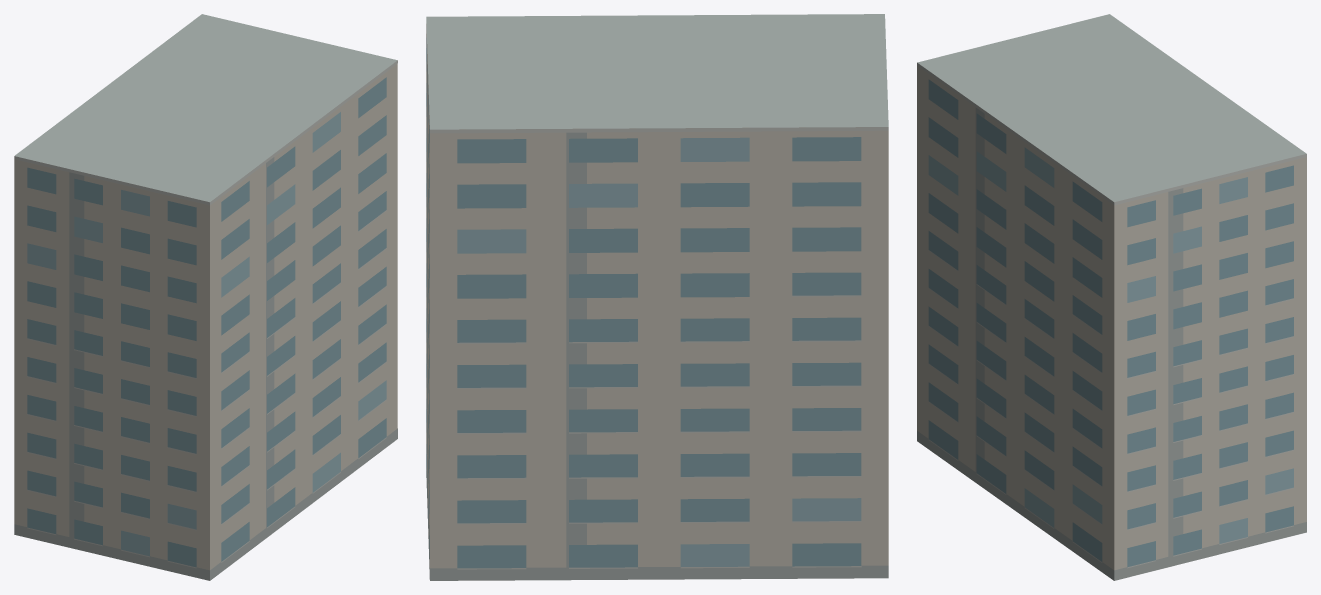
File: residential-6d28dd26-ef51-43fd-8eda-d2173b8d4872.glb
The picture shows the model from 3 angles, left to right: view 1: azimuth 30°, elevation 25°; view 2: azimuth 150°, elevation 25°; view 3: azimuth 270°, elevation 25°; orthographic projection. The views are drawn at different scales.
Parts seen in each view (by area): view 1: residential-6d28dd26-ef51-43fd-8eda-d2173b8d4872.tmp; view 2: residential-6d28dd26-ef51-43fd-8eda-d2173b8d4872.tmp; view 3: residential-6d28dd26-ef51-43fd-8eda-d2173b8d4872.tmp.
Boxes of the visible parts, box(x1,y1,x2,y2) form: residential-6d28dd26-ef51-43fd-8eda-d2173b8d4872.tmp: box(14, 14, 397, 580); residential-6d28dd26-ef51-43fd-8eda-d2173b8d4872.tmp: box(426, 14, 888, 580); residential-6d28dd26-ef51-43fd-8eda-d2173b8d4872.tmp: box(917, 14, 1306, 580).
Bounding box in the file's own units: 30.93 × 29 × 27.06.
